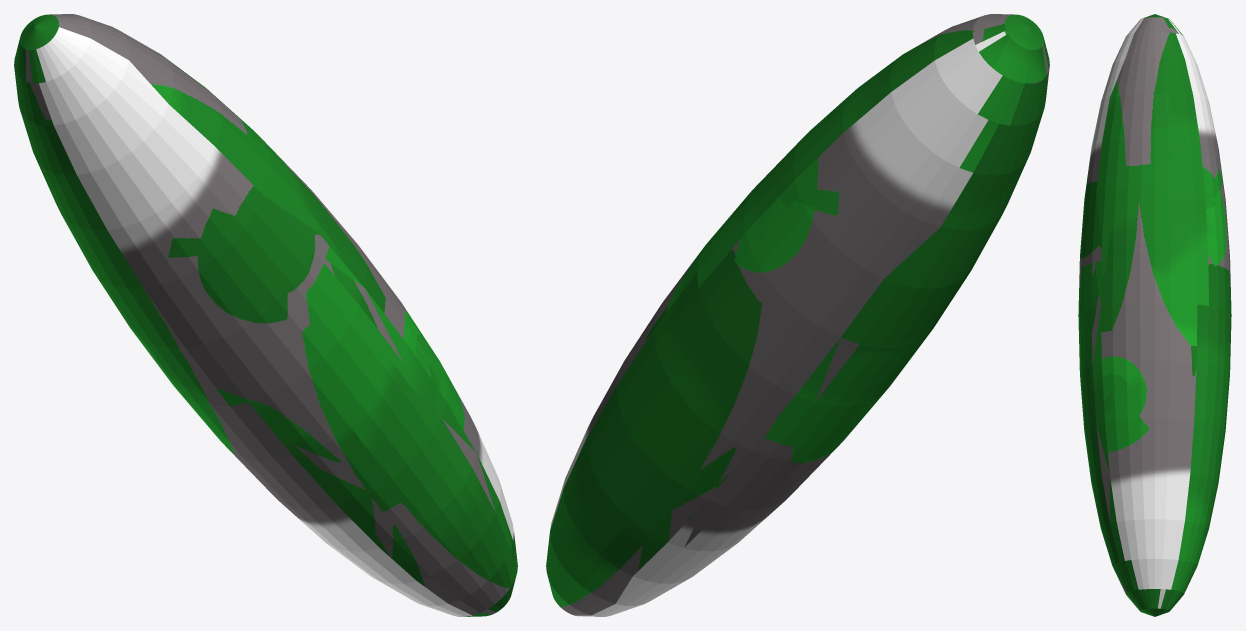
The model's file is enemy_Body.obj.
3 renders of one model, left to right at view 1: azimuth 30°, elevation 25°; view 2: azimuth 150°, elevation 25°; view 3: azimuth 270°, elevation 25°, orthographic. The views are drawn at different scales.
Parts seen in each view (by area): view 1: rightHand; view 2: rightHand; view 3: rightHand.
Part boxes in pixels (box(x1,y1,x2,y2)): rightHand: box(14, 14, 517, 616); rightHand: box(546, 14, 1049, 616); rightHand: box(1078, 14, 1231, 616).
Size of the model in its own units: 2.43 by 3.32 by 0.9998.
1 material, 1 textured.
